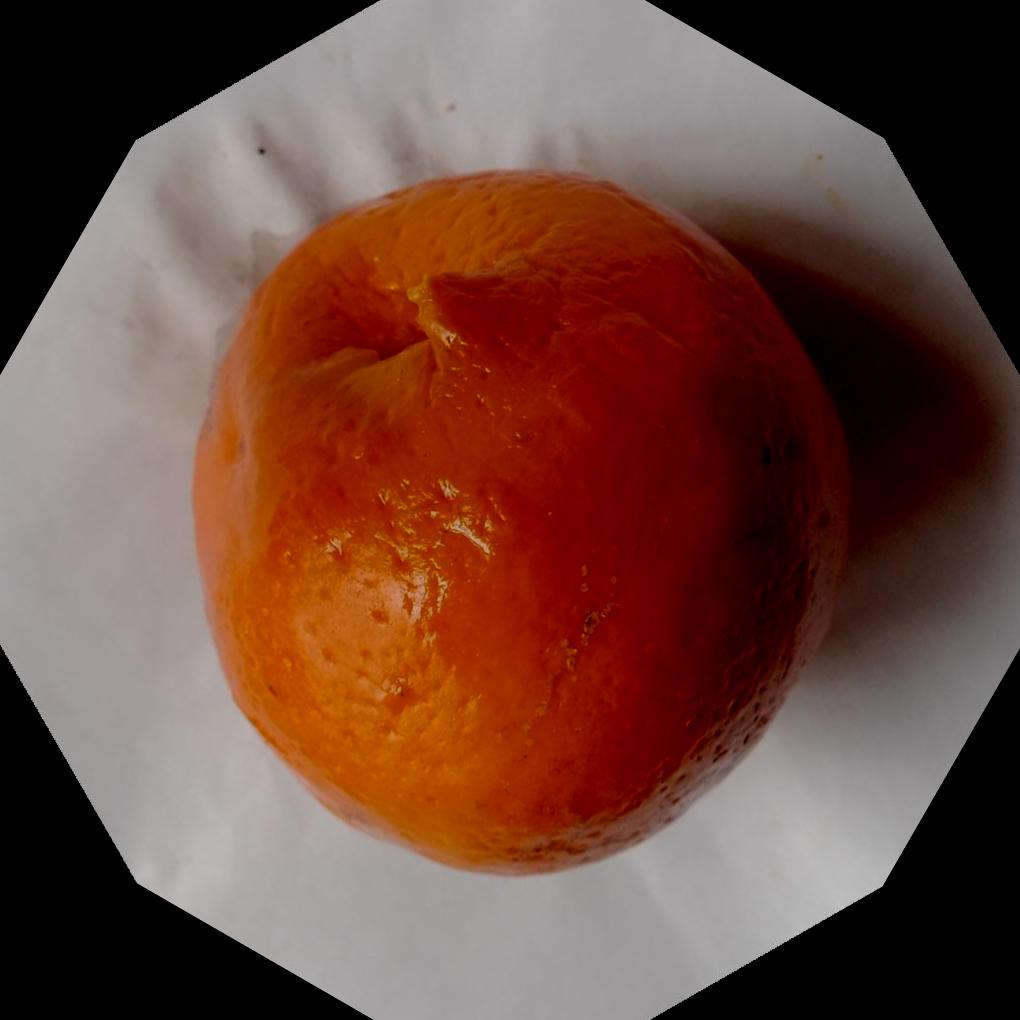FreshOrange: (193, 167, 857, 879)
